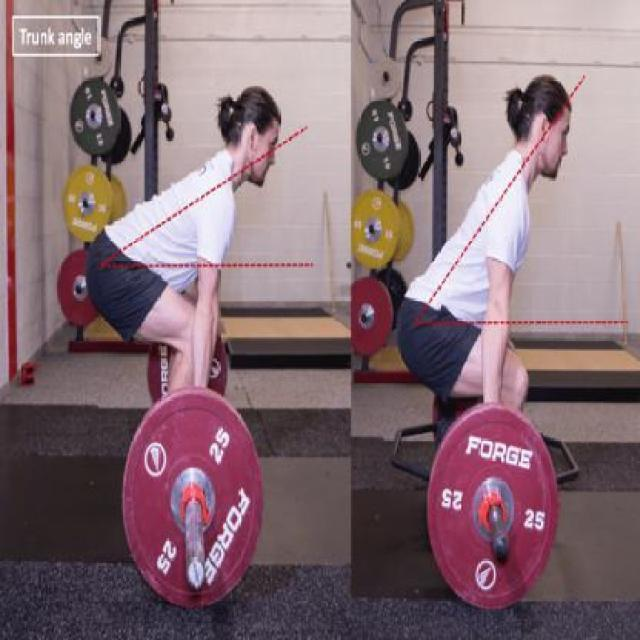Barbell: (490, 530, 512, 566), (186, 556, 208, 590)
